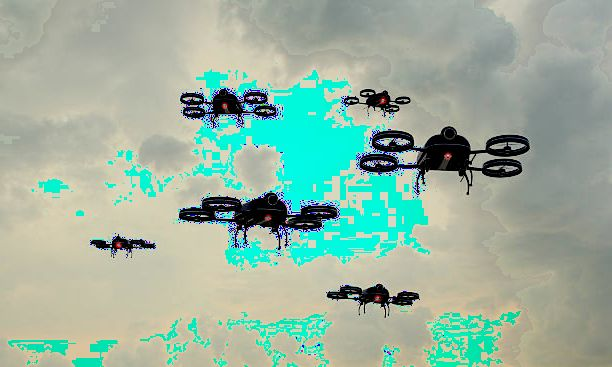Drone: (357, 124, 529, 197), (176, 193, 339, 251), (175, 88, 281, 129), (322, 281, 424, 319), (83, 228, 157, 264), (341, 86, 414, 113)
